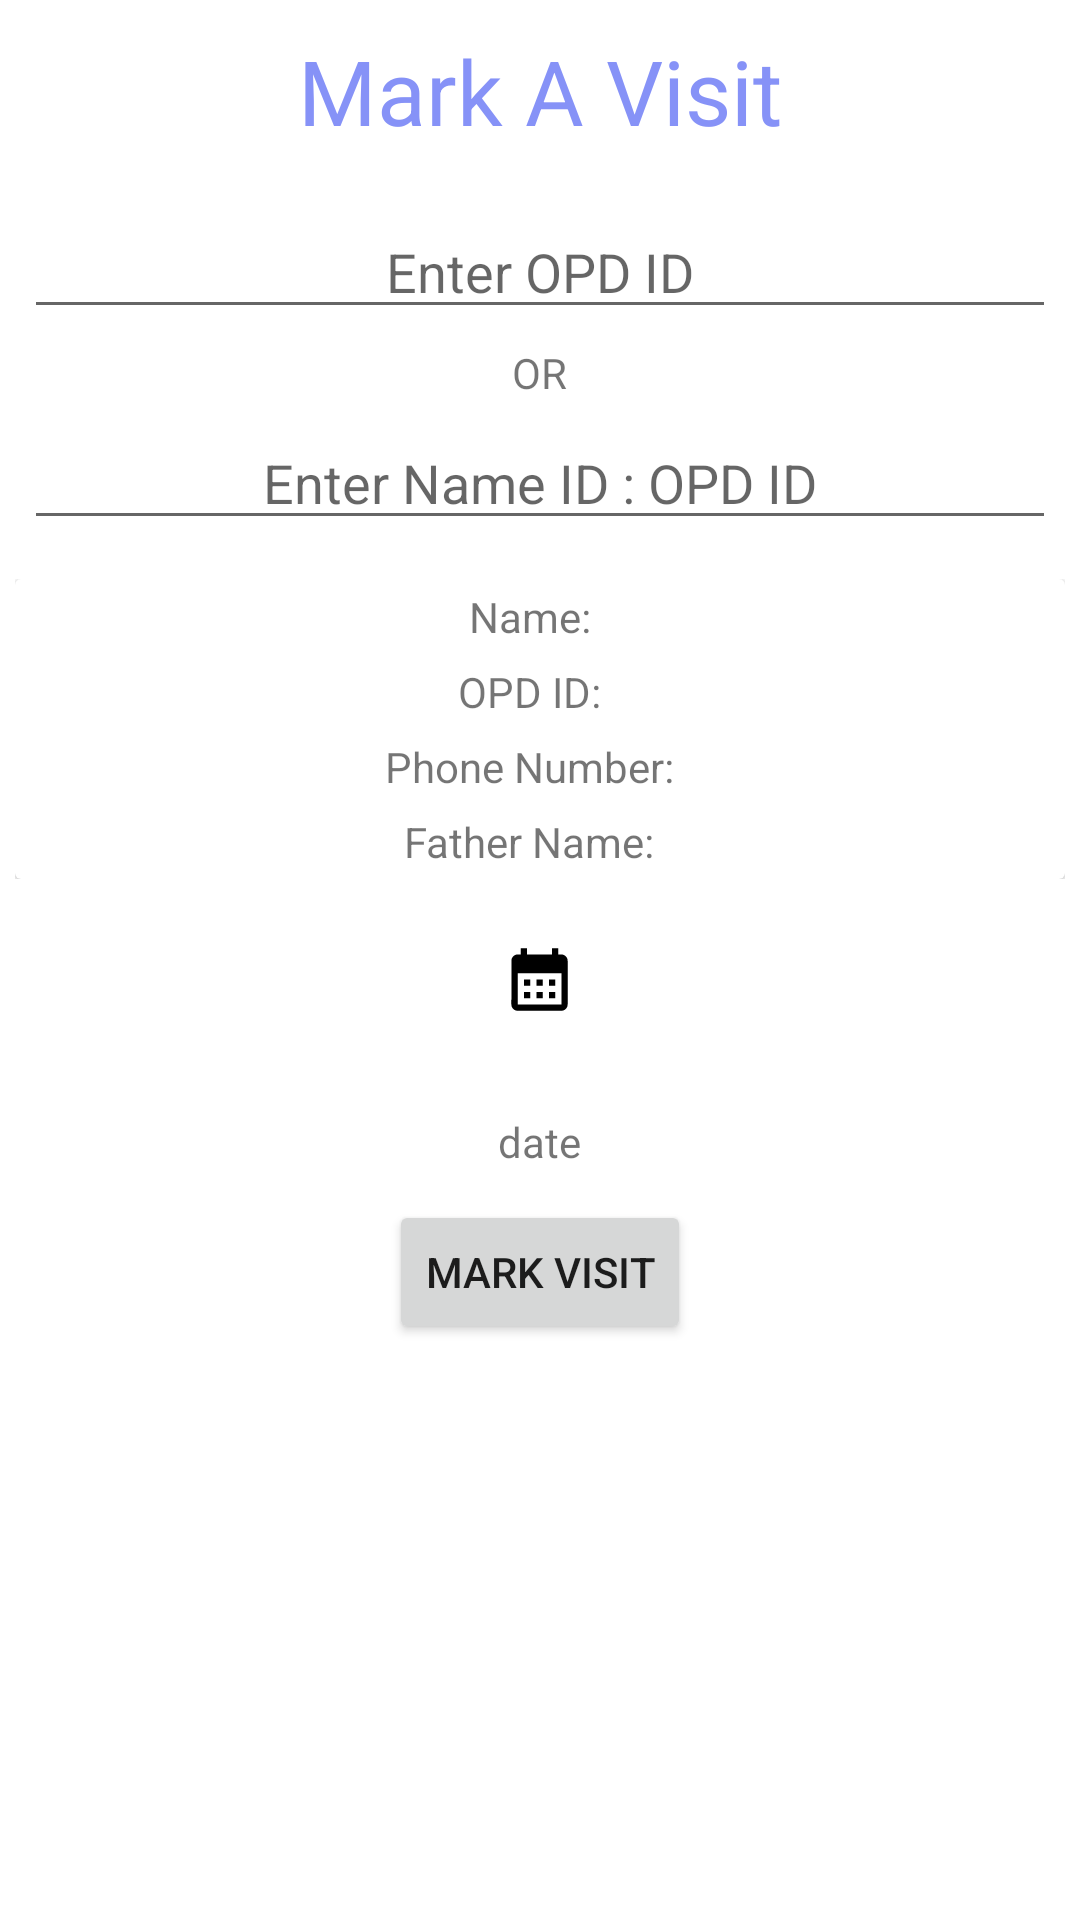

Icon click points for this 1080px x 1920px phone screenshot, format (x=x, y=y):
calender: (x=539, y=979)
